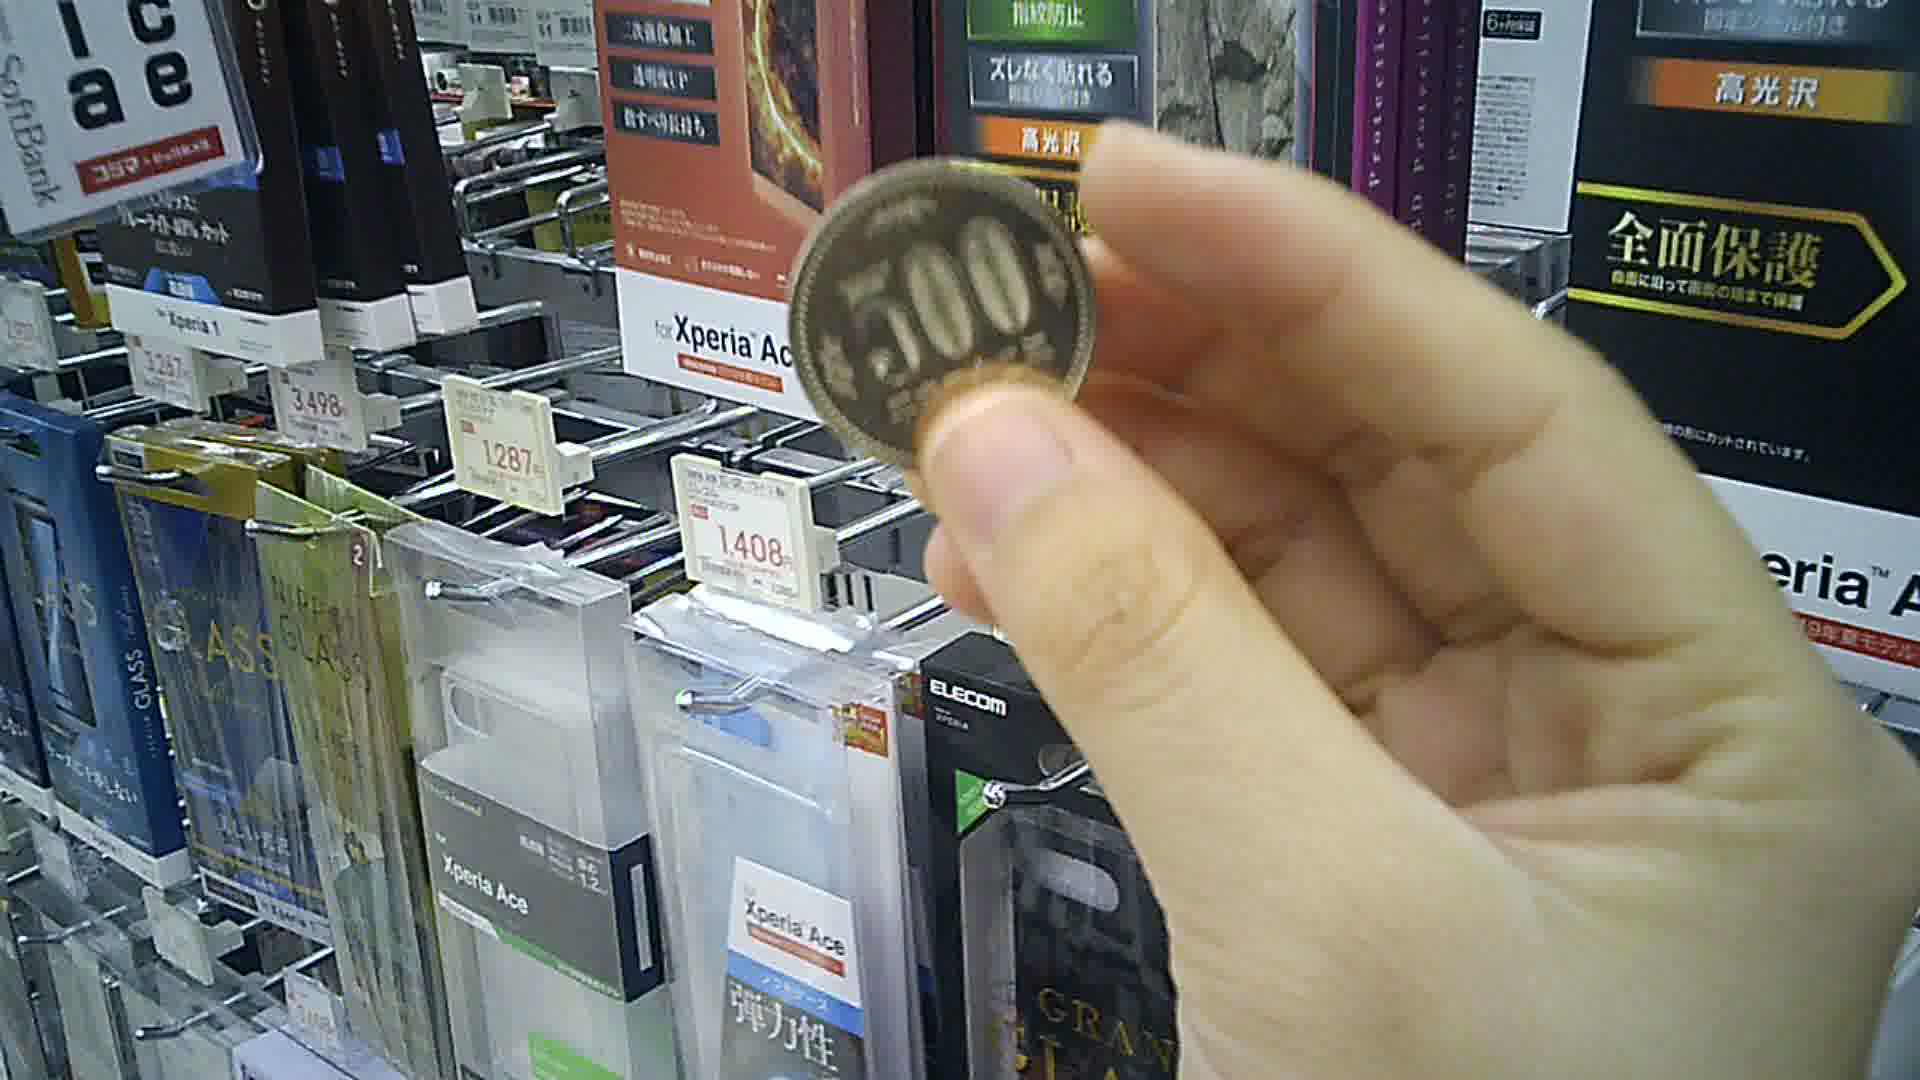500 Yen: (789, 160, 1102, 477)
